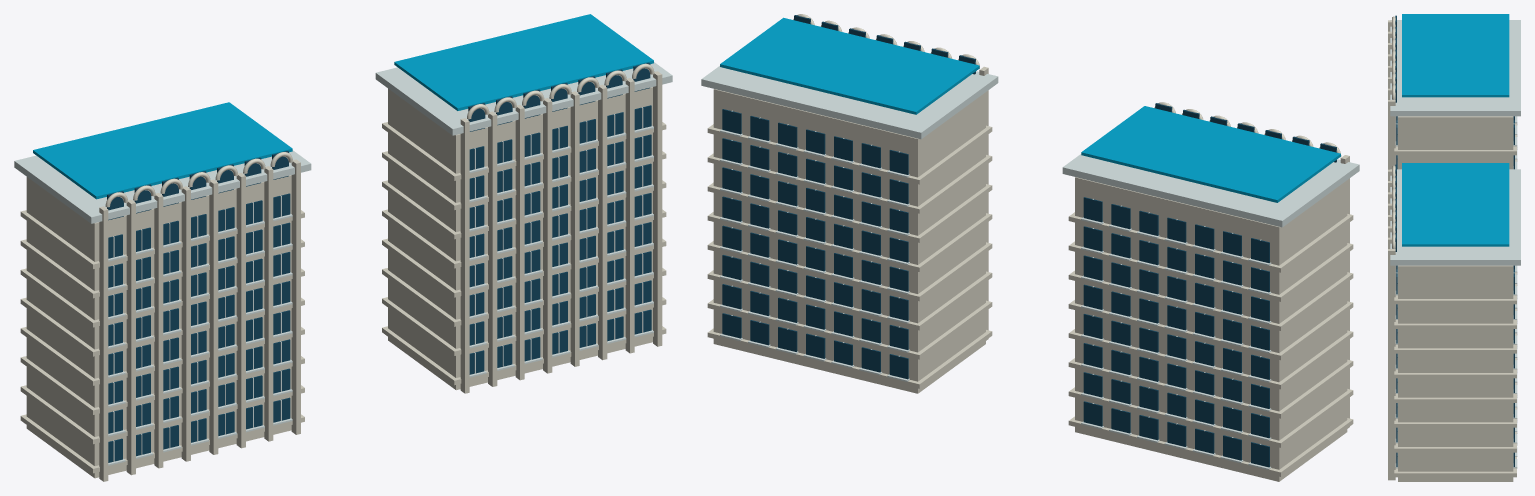
Rendered from sayap-akademik.glb.
3 views of the same model, side by side, from view 1: azimuth 30°, elevation 25°; view 2: azimuth 150°, elevation 25°; view 3: azimuth 270°, elevation 25° (orthographic). The views are drawn at different scales.
Parts seen in each view (by area): view 1: Sayap_Akademik_ivory, Sayap_Akademik_glass, Sayap_Akademik_roof, Sayap_Akademik_trim; view 2: Sayap_Akademik_ivory, Sayap_Akademik_glass, Sayap_Akademik_roof, Sayap_Akademik_trim; view 3: Sayap_Akademik_ivory, Sayap_Akademik_roof, Sayap_Akademik_trim, Sayap_Akademik_glass.
Part boxes in pixels (bbox=[...]): Sayap_Akademik_ivory: bbox=[20, 63, 666, 481]; Sayap_Akademik_glass: bbox=[107, 62, 651, 462]; Sayap_Akademik_roof: bbox=[33, 14, 653, 199]; Sayap_Akademik_trim: bbox=[14, 62, 672, 465]; Sayap_Akademik_ivory: bbox=[707, 14, 1353, 481]; Sayap_Akademik_glass: bbox=[722, 15, 1336, 467]; Sayap_Akademik_roof: bbox=[720, 17, 1340, 202]; Sayap_Akademik_trim: bbox=[701, 66, 1359, 470]; Sayap_Akademik_ivory: bbox=[1388, 16, 1516, 481]; Sayap_Akademik_roof: bbox=[1402, 14, 1509, 246]; Sayap_Akademik_trim: bbox=[1390, 20, 1520, 468]; Sayap_Akademik_glass: bbox=[1395, 15, 1514, 466].
Size of the model in its own units: 74 by 34.43 by 17.3.
